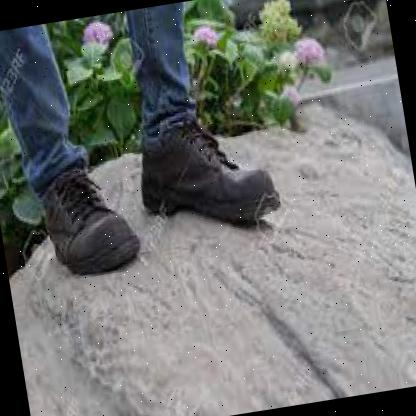bota: (125, 102, 290, 242), (34, 154, 148, 288)
